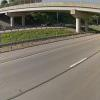Bridge: (2, 1, 93, 34)
